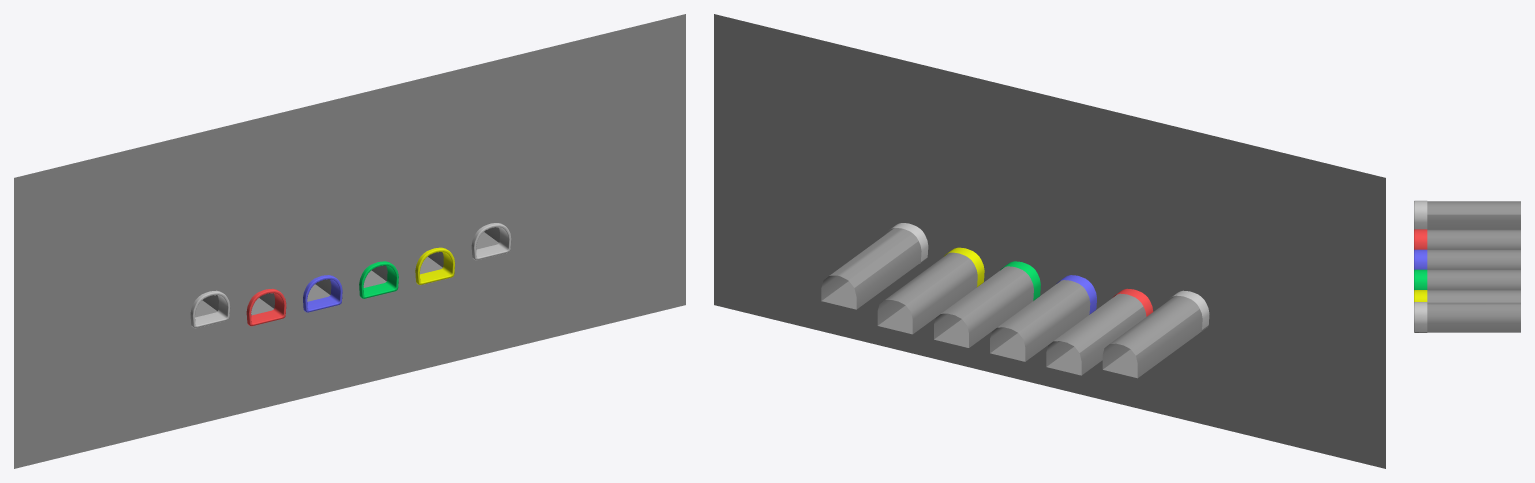
The model's file is Gate_2.fbx.
3 renders of one model, left to right at view 1: azimuth 30°, elevation 25°; view 2: azimuth 150°, elevation 25°; view 3: azimuth 270°, elevation 25°, orthographic. The views are drawn at different scales.
Parts seen in each view (by area): view 1: polySurface5, pCube46, pCube44, pCube41, pCube45, pCube47, pCube48; view 2: polySurface5; view 3: polySurface5, pCube48, pCube41, pCube44, pCube45, pCube46, pCube47.
Boxes of the visible parts, bbox=[...] form: polySurface5: bbox=[14, 14, 685, 468]; pCube46: bbox=[359, 261, 398, 298]; pCube44: bbox=[246, 288, 286, 326]; pCube41: bbox=[190, 290, 230, 328]; pCube45: bbox=[303, 275, 342, 312]; pCube47: bbox=[415, 247, 454, 284]; pCube48: bbox=[471, 223, 511, 260]; polySurface5: bbox=[714, 14, 1385, 468]; polySurface5: bbox=[1427, 201, 1520, 332]; pCube48: bbox=[1414, 302, 1427, 332]; pCube41: bbox=[1414, 200, 1427, 229]; pCube44: bbox=[1414, 229, 1427, 249]; pCube45: bbox=[1414, 249, 1427, 269]; pCube46: bbox=[1414, 269, 1427, 289]; pCube47: bbox=[1414, 290, 1427, 301].
Size of the model in its own units: 95.54 by 39.57 by 17.92.
